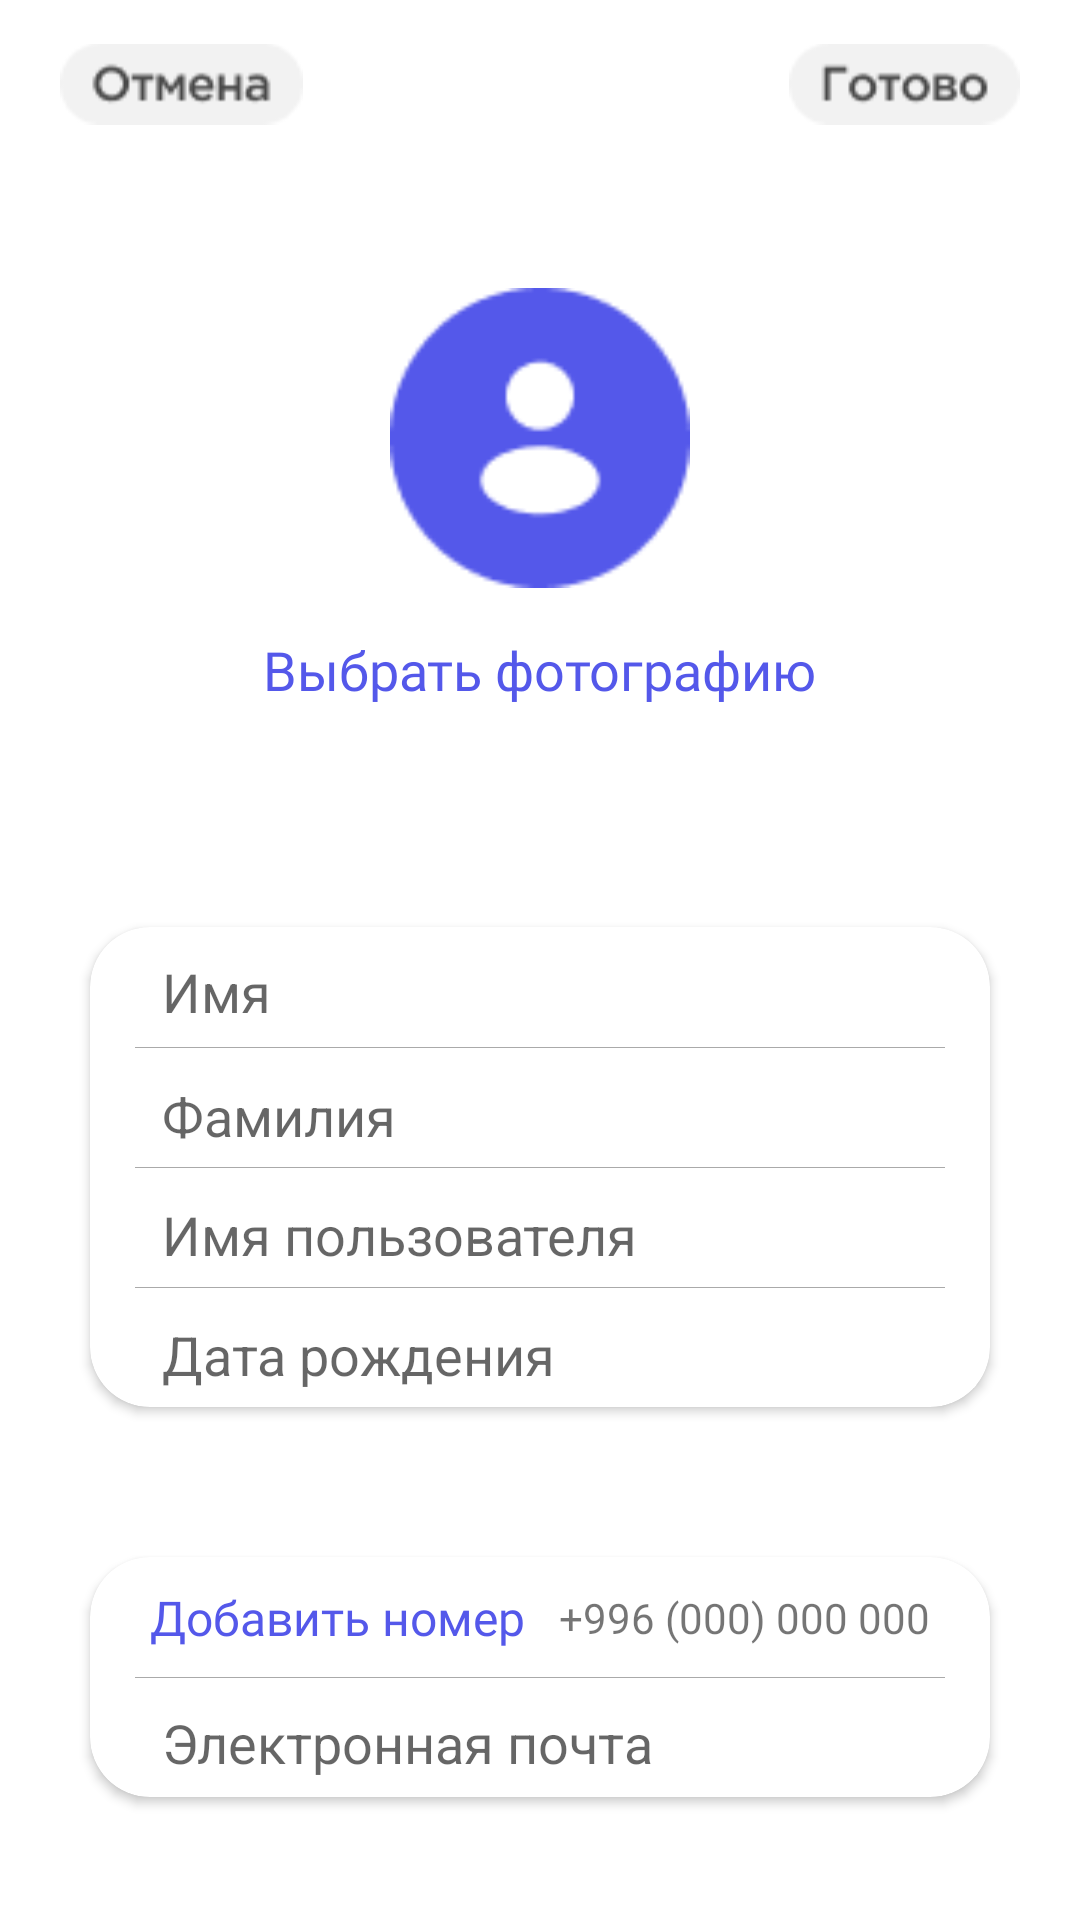

Where to tap for icons on this 1080px×1920px app screen, as (x,y):
user photo: (540,438)
